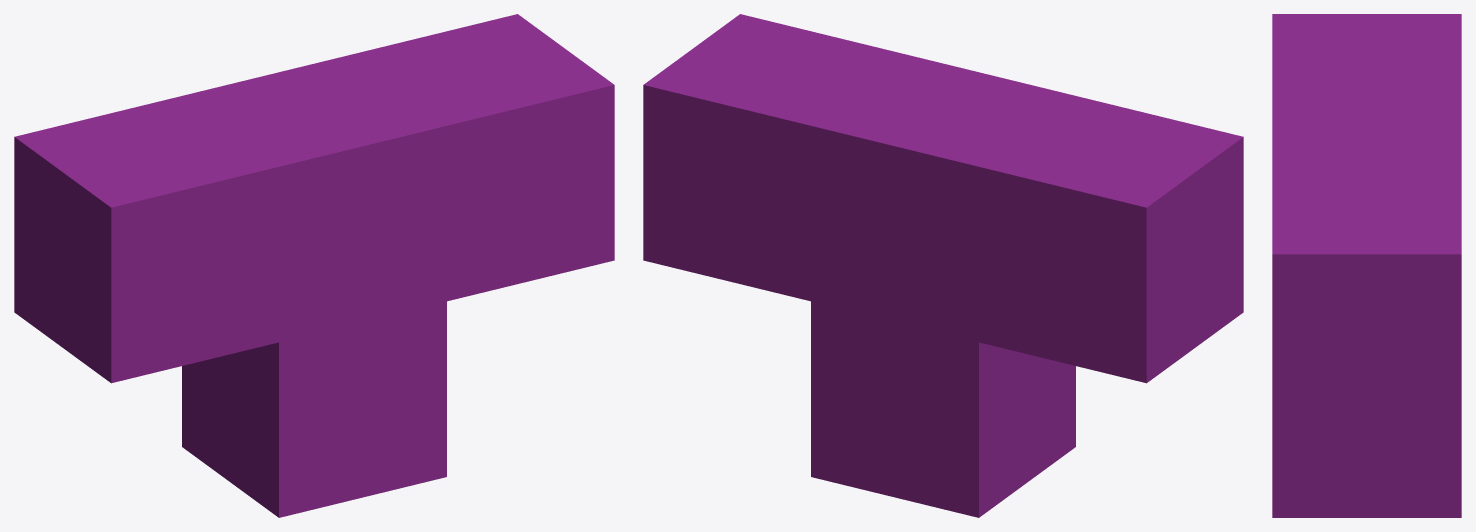
File: T_Tetromino.obj
3 views of the same model, side by side, from view 1: azimuth 30°, elevation 25°; view 2: azimuth 150°, elevation 25°; view 3: azimuth 270°, elevation 25° (orthographic). The views are drawn at different scales.
Parts seen in each view (by area): view 1: T_Tetromino; view 2: T_Tetromino; view 3: T_Tetromino.
Boxes of the visible parts, x1,y1,x2,y2 form: T_Tetromino: (14, 14, 614, 517); T_Tetromino: (643, 14, 1243, 517); T_Tetromino: (1272, 14, 1461, 517).
Size of the model in its own units: 3 by 2 by 1.
